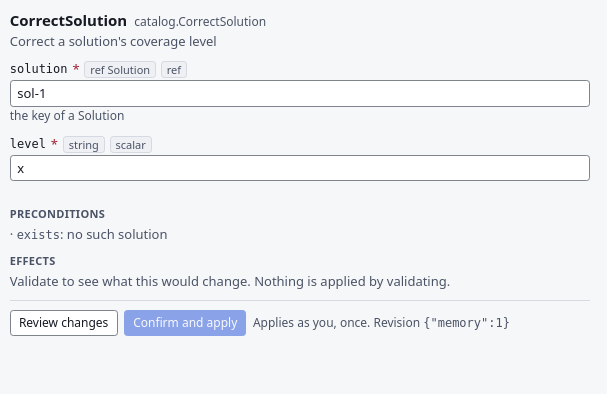
it: Safety (US-064) › US-064-AC5: a host that does not offer the action answers 403, and the form shows 'not offered'
Click the button with test id "validate": [64, 323] box [10,310,118,336]
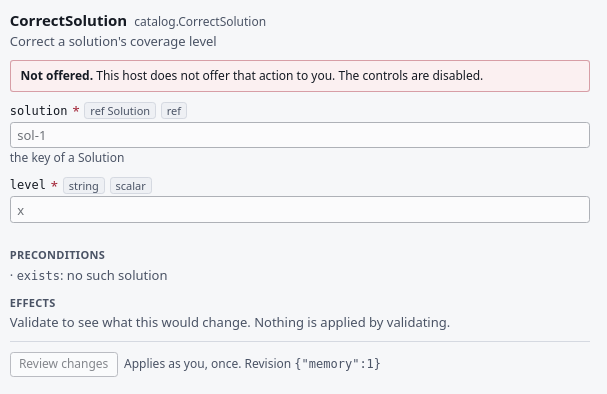
Check: the text "This host does not offer that action to you" shows "Not offered", box [20,67,93,84]
Check: the button with test id "confirm" is gone
